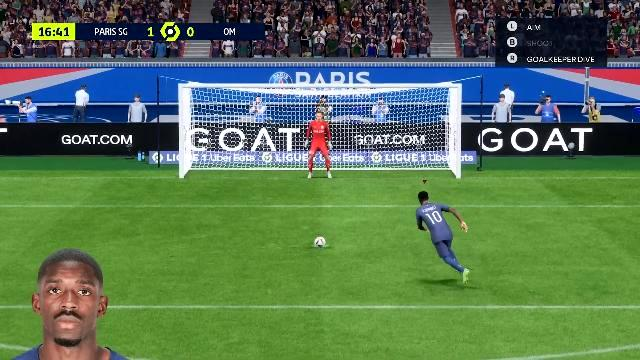bottom-left: (184, 136, 280, 182)
bottom-right: (356, 136, 456, 182)
center-down: (281, 136, 355, 182)
center-up: (281, 90, 357, 136)
football: (315, 236, 327, 246)
goalkeeper: (307, 114, 339, 182)
player: (412, 190, 472, 286)
top-left: (184, 90, 280, 134)
top-right: (358, 88, 457, 136)
